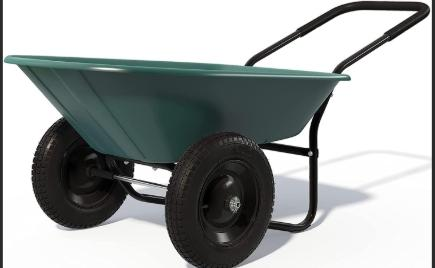ARROSOIR: (2, 0, 431, 268)
BROUETTE: (3, 1, 432, 268)
